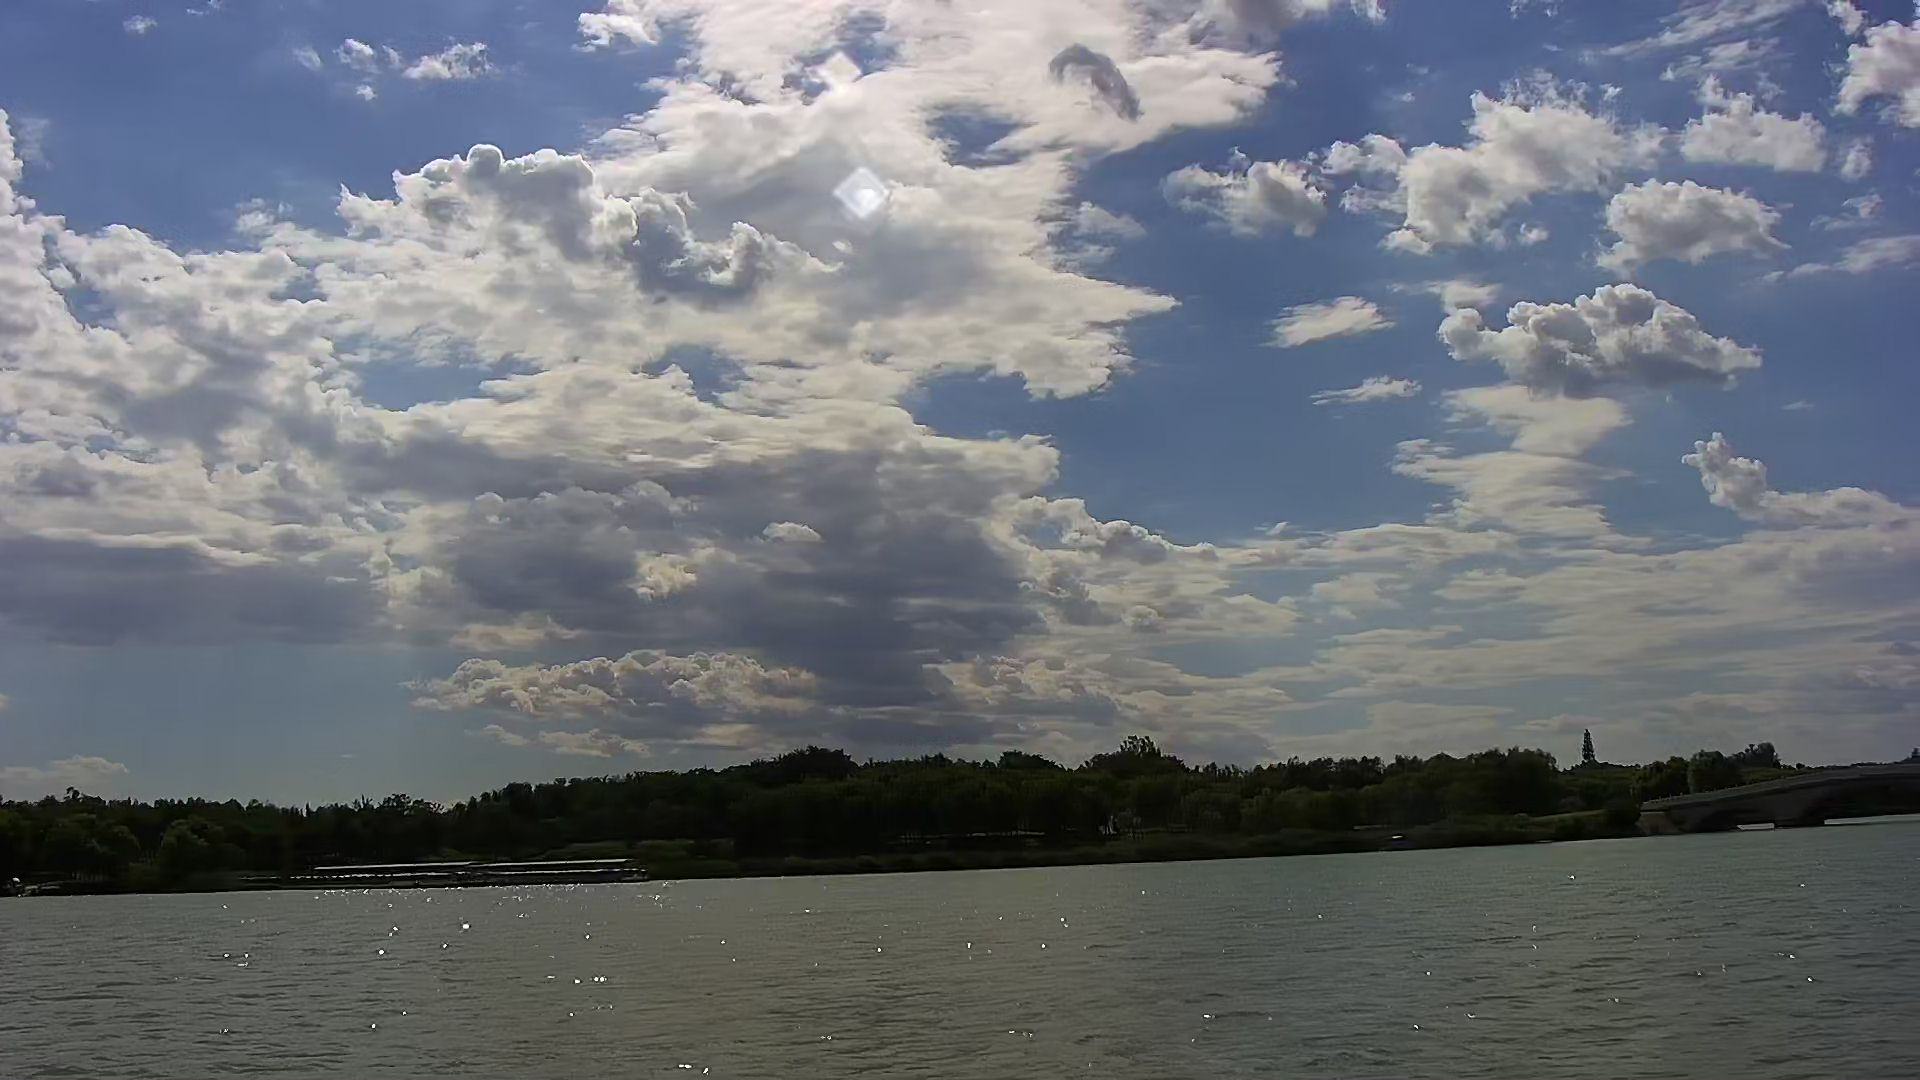bridge: (1638, 758, 1920, 835)
harbor: (310, 851, 640, 895)
